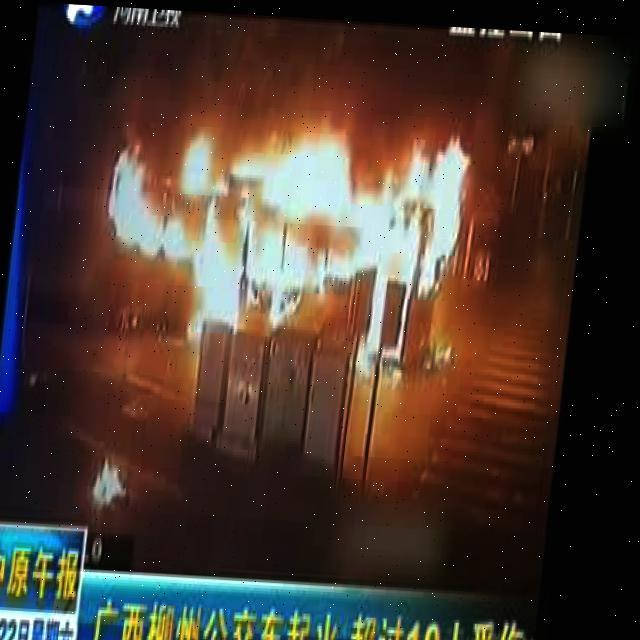Fire: (104, 103, 478, 384), (95, 456, 140, 512)
